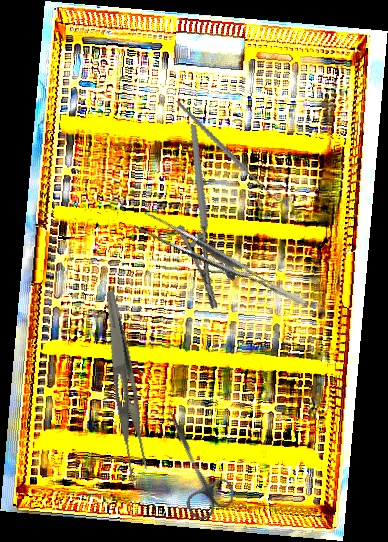Dressing Forceps: (85, 289, 158, 482)
Hook Surgical: (175, 80, 287, 222)
Iris Scissors: (146, 401, 240, 524)
Needle Holder: (151, 124, 258, 310)
Tissue Forceps: (133, 195, 306, 332)
